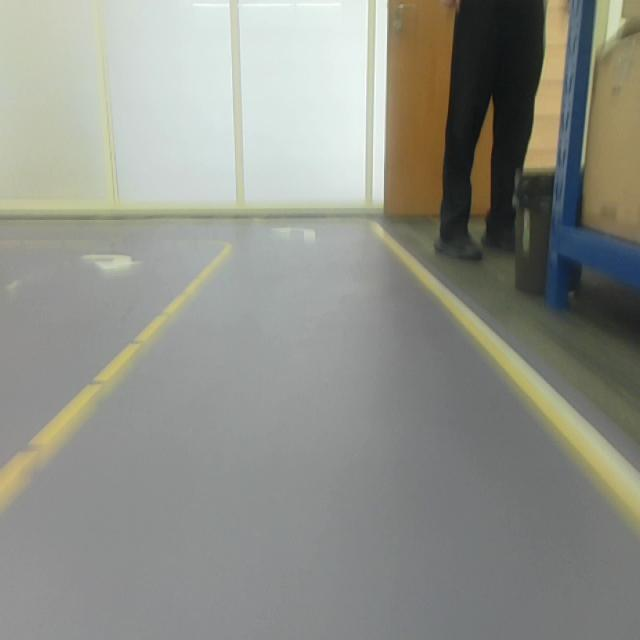left_lane: (0, 249, 230, 509)
right_lane: (376, 226, 640, 533)
